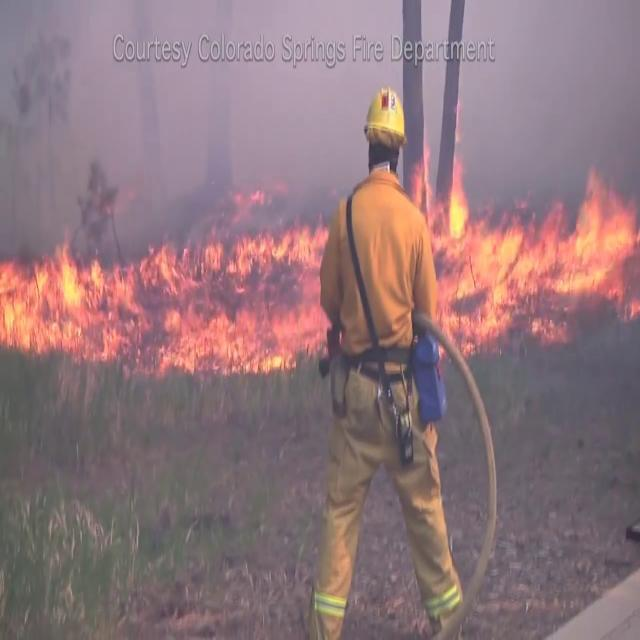Fire: (129, 169, 341, 379), (431, 165, 640, 335), (0, 220, 136, 366)
Smoke: (0, 0, 336, 263)
